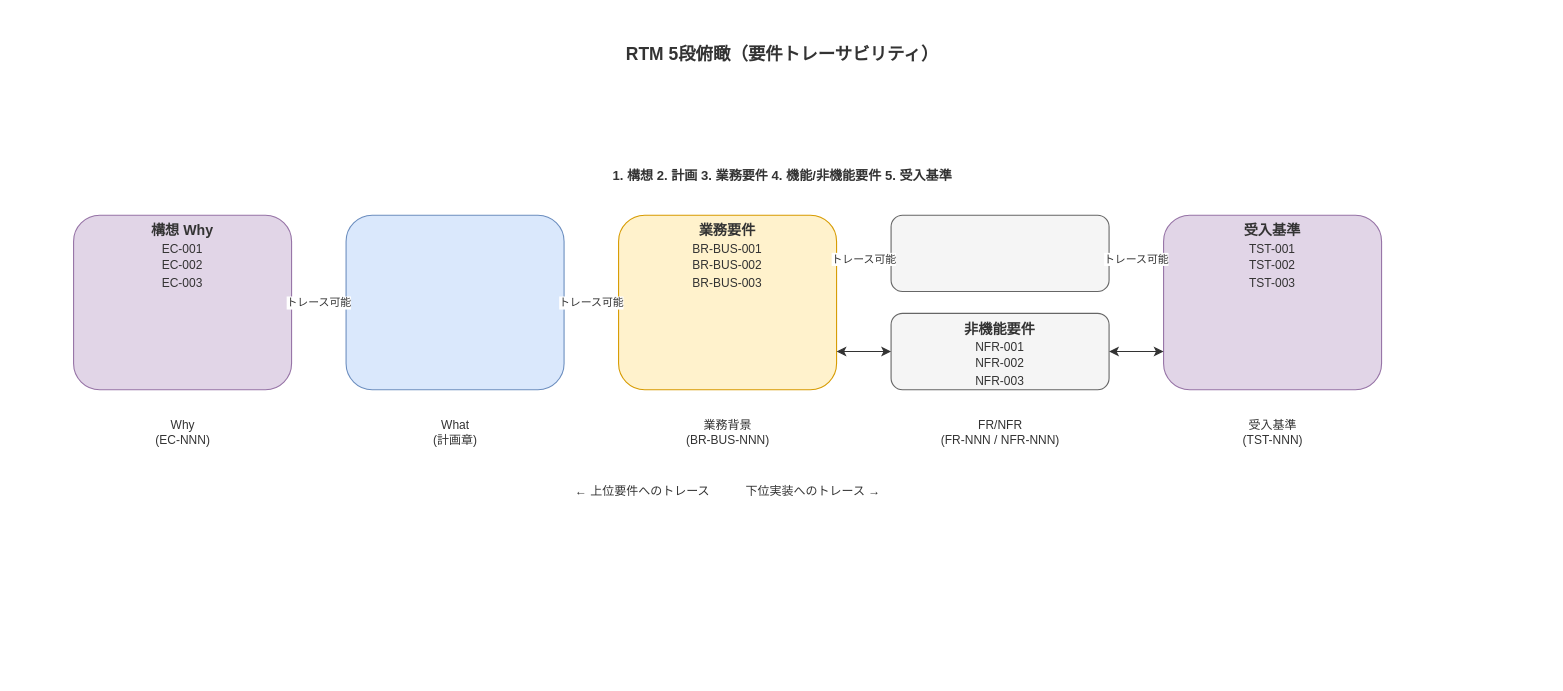
This 1563x691 diagram has some shape labels left out. The shapes that lost their labels are listed below. From the top down, each one's centre as x and y in pixels, then its label:
the point at 999,253: 機能要件 FR-001 FR-002 FR-003
the point at 454,302: 計画 What 計画1章 計画2章 計画3章
